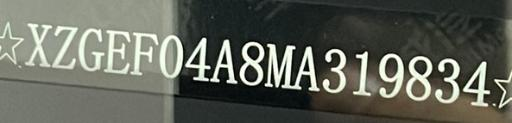letter: (262, 40, 296, 89), (461, 59, 493, 108), (404, 54, 434, 103), (102, 25, 130, 76), (209, 38, 239, 85), (292, 43, 322, 90), (24, 20, 52, 69), (376, 51, 404, 100), (434, 56, 462, 105), (130, 30, 160, 75), (78, 25, 104, 74), (52, 24, 78, 71), (184, 36, 210, 83), (322, 47, 348, 94), (238, 40, 264, 85), (158, 33, 182, 78), (350, 49, 372, 98)
